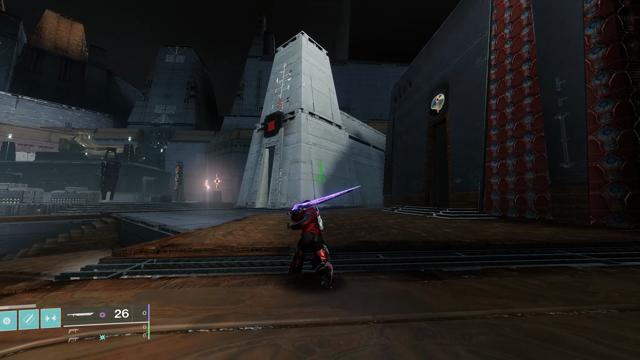brain: (429, 90, 447, 116)
stop: (265, 115, 279, 136)
